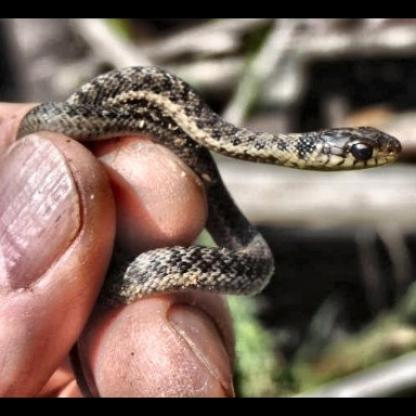Snake: (17, 60, 406, 172)
